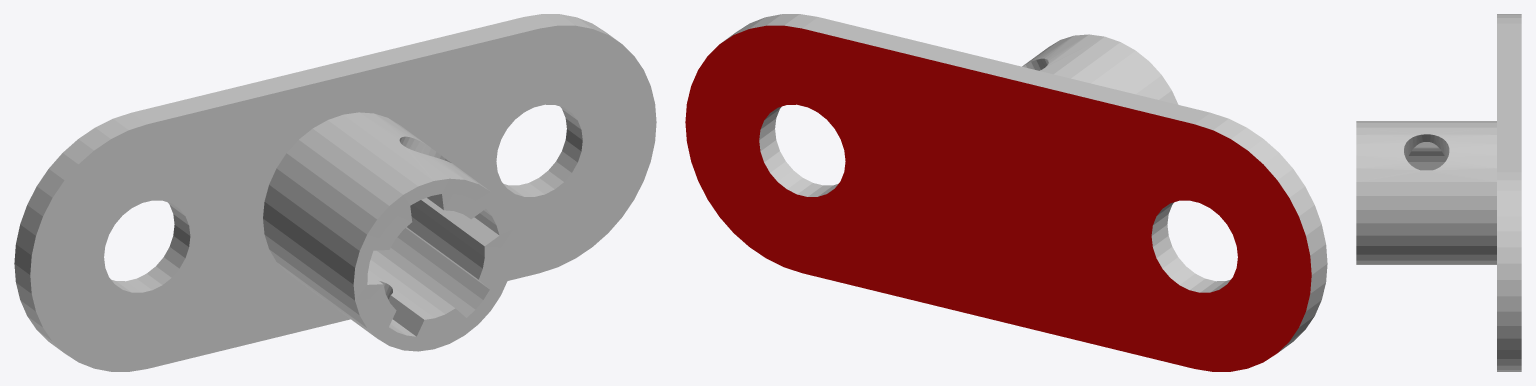
File: Encaixe_caixa_stp_3.obj
The picture shows the model from 3 angles, left to right: view 1: azimuth 30°, elevation 25°; view 2: azimuth 150°, elevation 25°; view 3: azimuth 270°, elevation 25°; orthographic projection. The views are drawn at different scales.
Visible parts, largest first — view 1: Object1; view 2: Object1; view 3: Object1.
Boxes of the visible parts, box(x1,y1,x2,y2) form: Object1: box(14, 14, 656, 371); Object1: box(685, 14, 1327, 371); Object1: box(1356, 14, 1521, 371).
Size of the model in its own units: 79.79 by 29.79 by 23.5.
